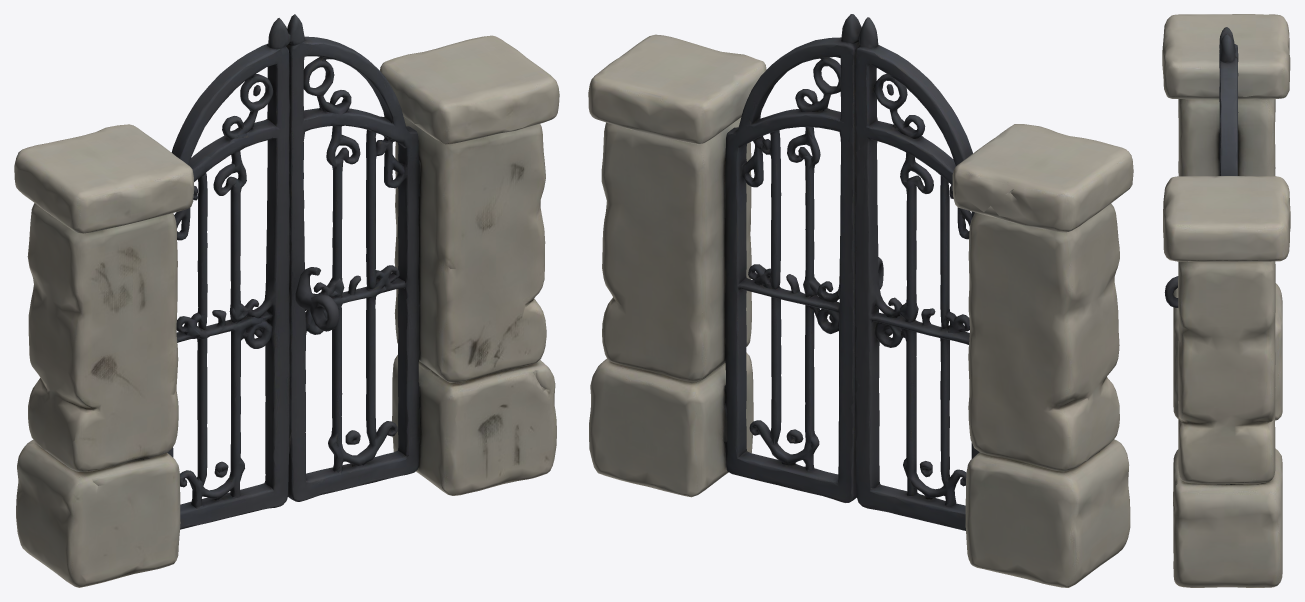
Rendered from cemetery_gate.glb.
3 views of the same model, side by side, from view 1: azimuth 30°, elevation 25°; view 2: azimuth 150°, elevation 25°; view 3: azimuth 270°, elevation 25° (orthographic). The views are drawn at different scales.
Parts seen in each view (by area): view 1: Mesh; view 2: Mesh; view 3: Mesh.
Part boxes in pixels (<box>): Mesh: <box>14,14,559,587</box>; Mesh: <box>588,14,1133,587</box>; Mesh: <box>1162,14,1290,587</box>.
Size of the model in its own units: 1.91 by 1.85 by 0.4764.
1 material, 1 textured.
